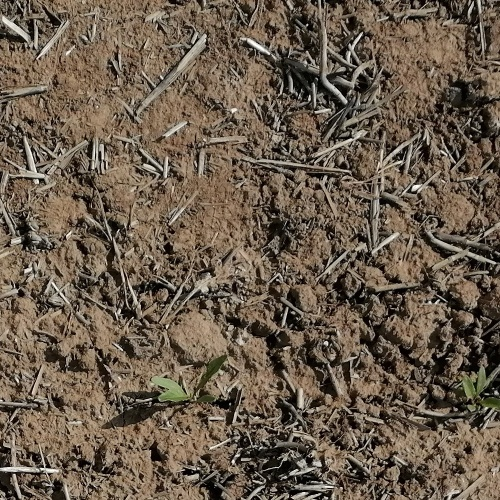beet: (152, 354, 228, 405), (459, 365, 500, 415)
